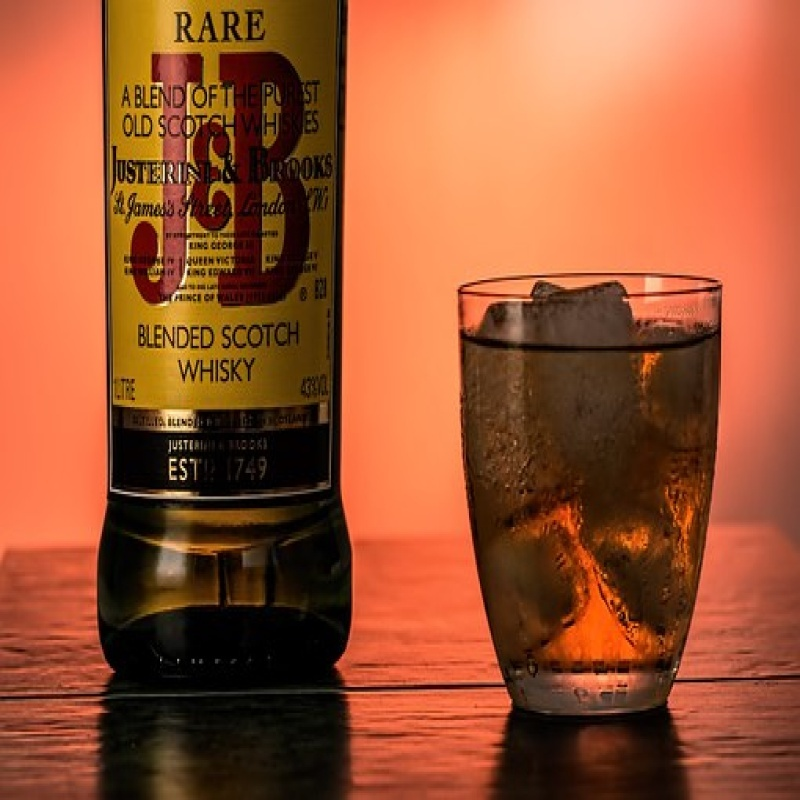whiskey: (452, 271, 716, 718)
